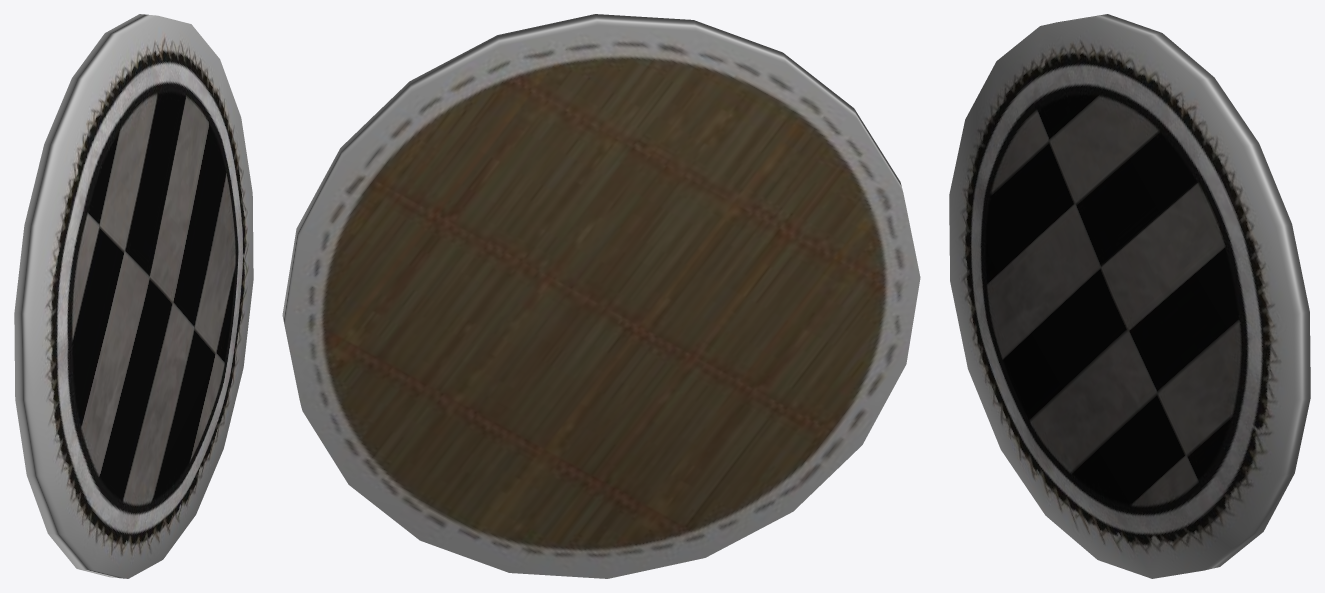
File: shield-featheredshields.glb
3 views of the same model, side by side, from view 1: azimuth 30°, elevation 25°; view 2: azimuth 150°, elevation 25°; view 3: azimuth 270°, elevation 25° (orthographic). The views are drawn at different scales.
Bounding box in the file's own units: 0.4515 × 0.5518 × 0.3495.
Materials: 1 (1 with a texture image).
